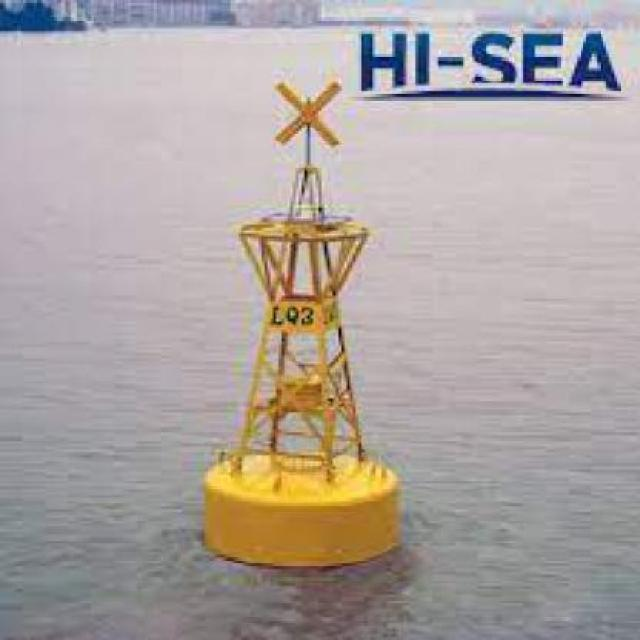buoy: (191, 63, 411, 579)
